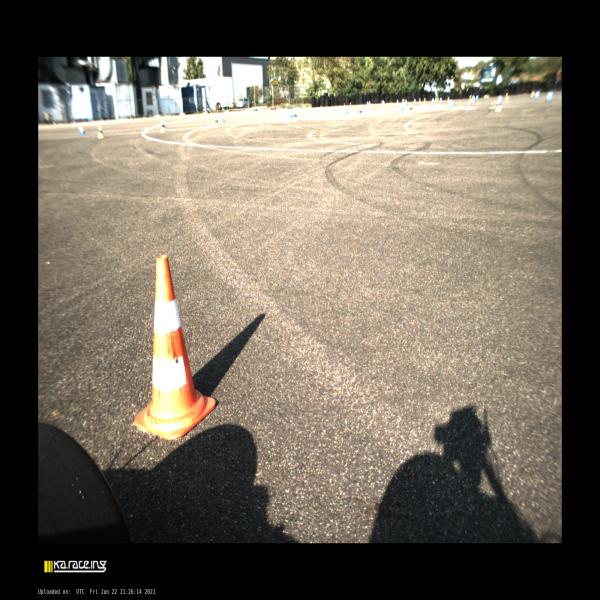blue_cone: (80, 125, 85, 134), (449, 99, 453, 107), (546, 94, 550, 102), (221, 115, 225, 122), (290, 110, 294, 117), (345, 106, 348, 114), (401, 103, 404, 110), (535, 92, 538, 99), (439, 97, 442, 103), (472, 96, 475, 102), (405, 99, 407, 105), (432, 98, 434, 104), (414, 99, 416, 103)
large_orange_cone: (134, 255, 217, 441)
yellow_cone: (160, 121, 165, 133), (99, 126, 104, 138), (293, 112, 298, 122), (495, 102, 500, 112), (214, 118, 219, 127), (409, 104, 413, 114), (359, 108, 363, 117), (505, 94, 508, 100), (530, 92, 533, 97), (419, 98, 421, 103), (424, 98, 426, 103), (447, 97, 449, 102), (469, 96, 471, 101)
